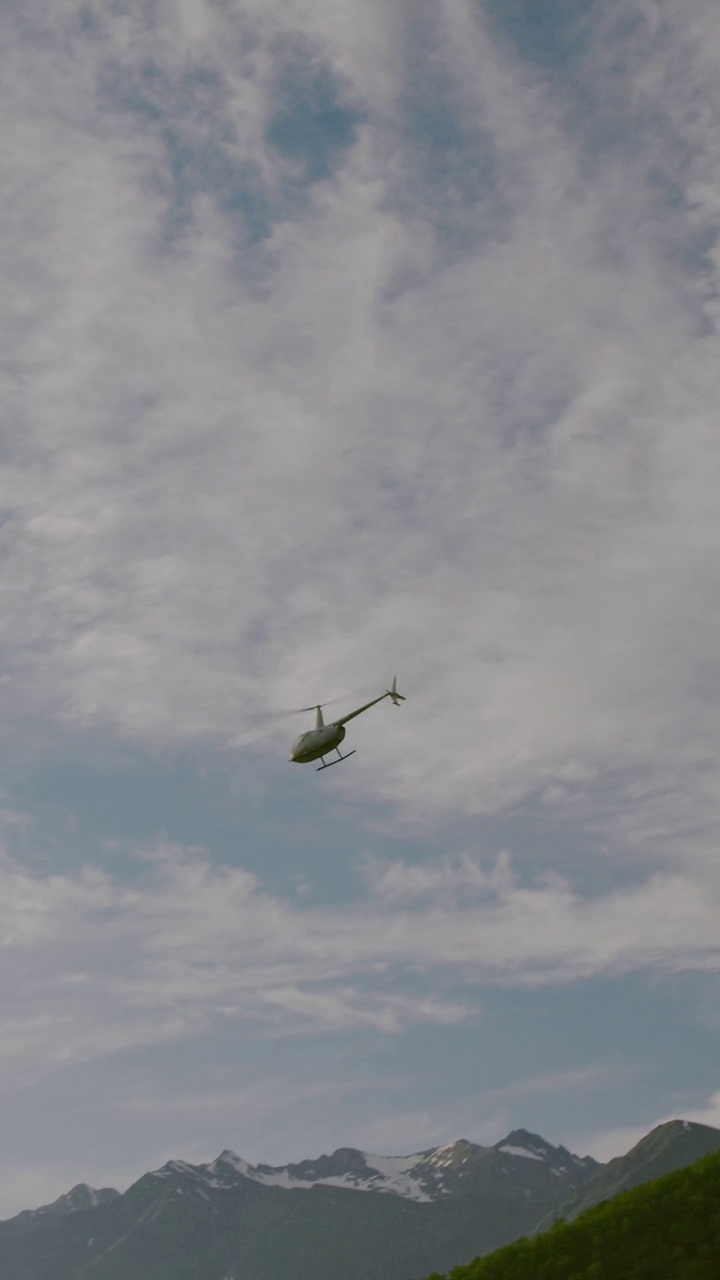heli: (282, 680, 407, 773)
